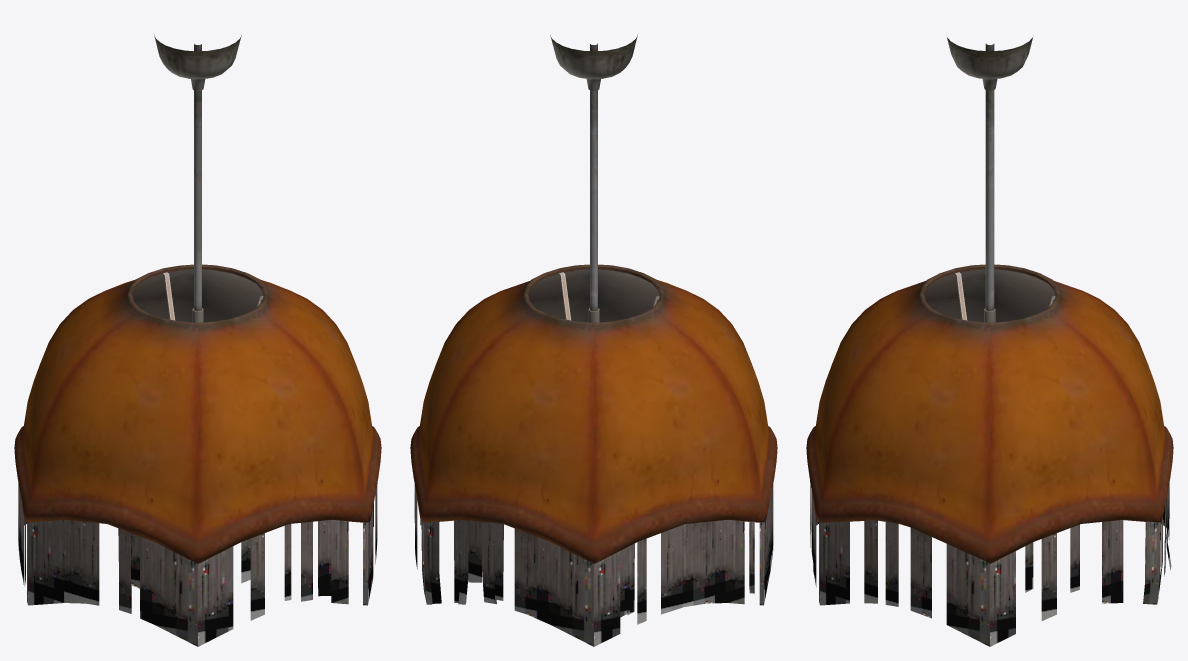
File: apartment_light_c.glb
3 views of the same model, side by side, from view 1: azimuth 30°, elevation 25°; view 2: azimuth 150°, elevation 25°; view 3: azimuth 270°, elevation 25° (orthographic).
Parts seen in each view (by area): view 1: apartment_light_c; view 2: apartment_light_c; view 3: apartment_light_c.
Boxes of the visible parts, x1=… form: apartment_light_c: x1=14, y1=34, x2=381, y2=646; apartment_light_c: x1=410, y1=34, x2=777, y2=646; apartment_light_c: x1=806, y1=37, x2=1173, y2=646.
Bounding box in the file's own units: 0.7645 × 1.13 × 0.705.
Materials: 2 (2 with a texture image).
